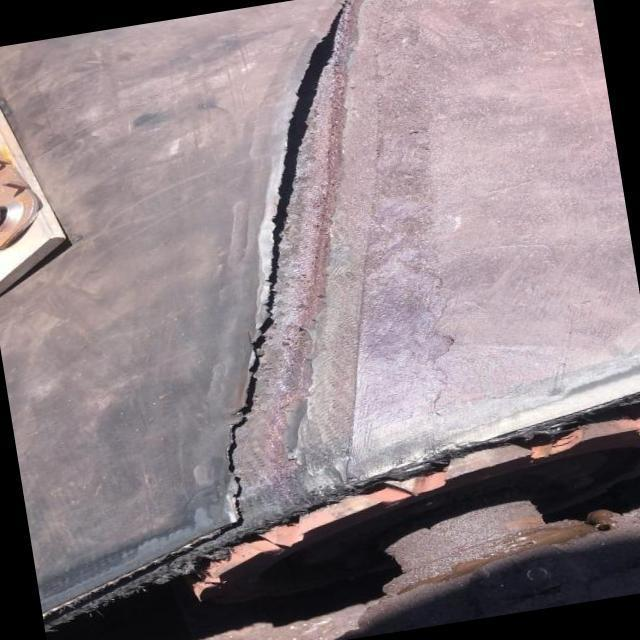Tear: (221, 0, 356, 539)
